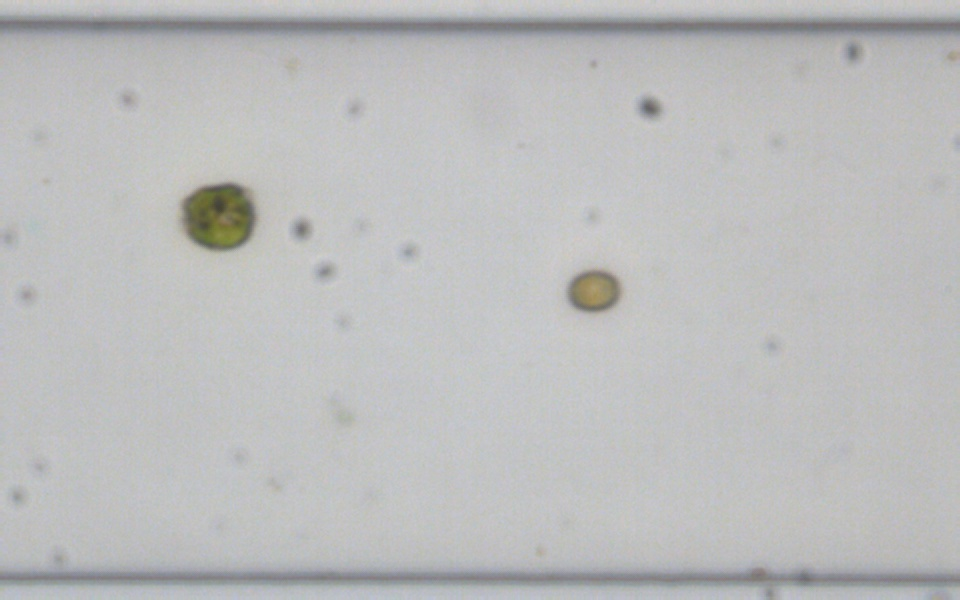Effrenium: (566, 268, 619, 311)
Haematococcus: (178, 180, 258, 252)
